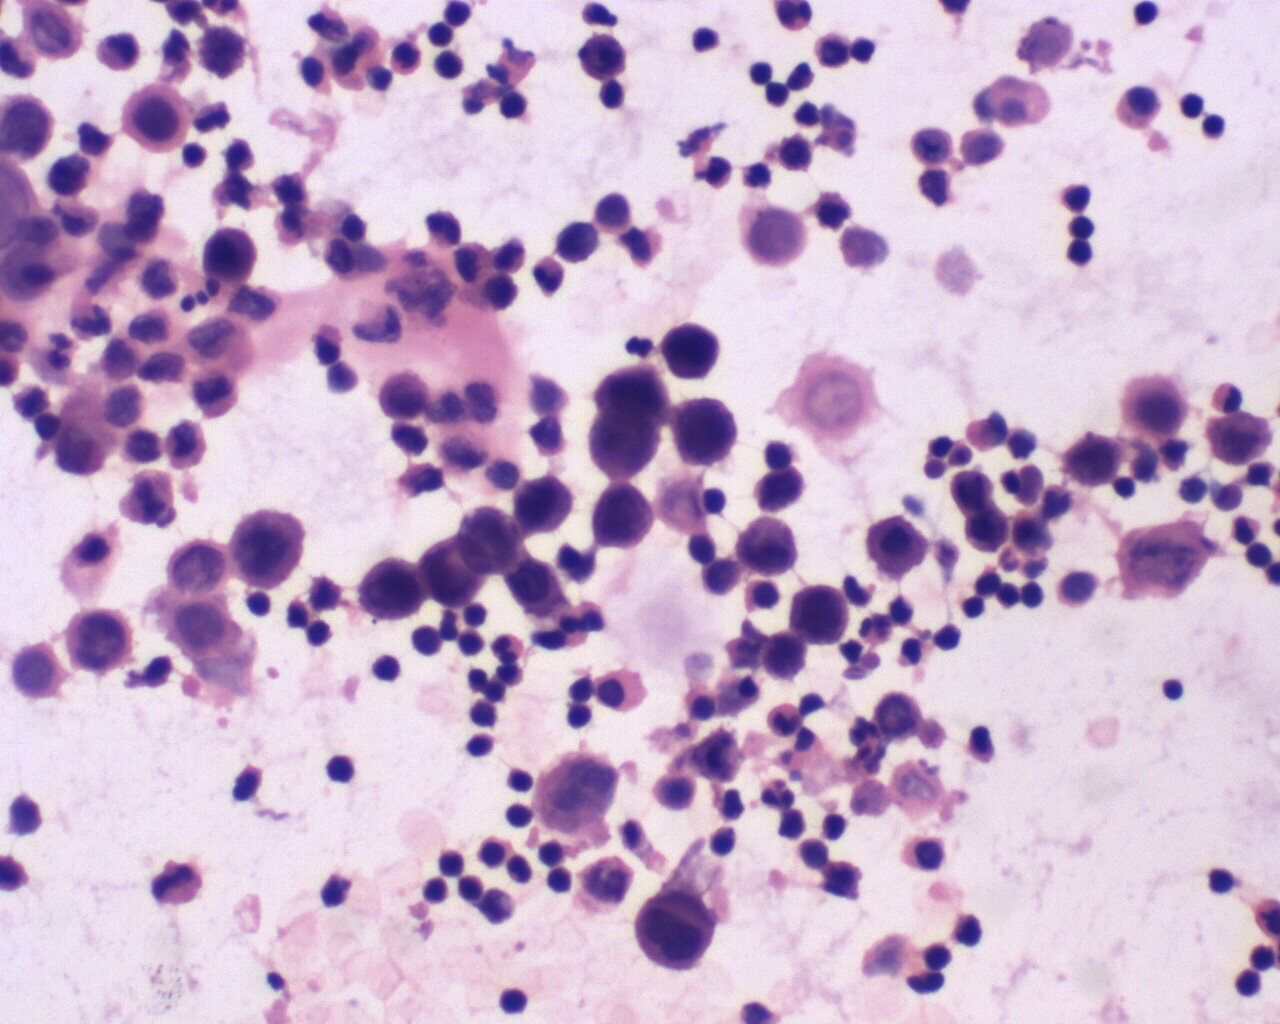ab: (627, 883, 724, 978), (226, 498, 308, 592), (586, 410, 664, 483), (419, 531, 491, 609), (358, 549, 425, 630), (64, 609, 136, 679), (678, 393, 744, 469), (458, 502, 526, 574), (591, 482, 657, 553), (734, 515, 806, 578), (791, 581, 854, 651), (513, 471, 575, 536), (661, 318, 722, 381), (204, 225, 264, 284), (1067, 427, 1122, 491), (574, 29, 629, 78)
lymph: (702, 823, 747, 862), (815, 807, 856, 847), (494, 85, 535, 125), (686, 22, 727, 57), (698, 484, 739, 518), (368, 651, 404, 688), (418, 874, 453, 911), (324, 750, 362, 786), (421, 16, 459, 51), (462, 729, 502, 760), (499, 983, 534, 1018), (1204, 866, 1238, 899), (1021, 577, 1051, 613), (504, 763, 537, 795), (1198, 109, 1227, 145), (1130, 1, 1162, 29), (1160, 676, 1187, 703)
meso: (119, 82, 196, 156), (860, 513, 930, 581), (590, 660, 647, 716), (1113, 82, 1169, 133)
neutro: (532, 256, 571, 296)
